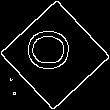O_E: (29, 32, 81, 78)
